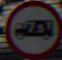Heavy Vehicles: (4, 4, 58, 48)
